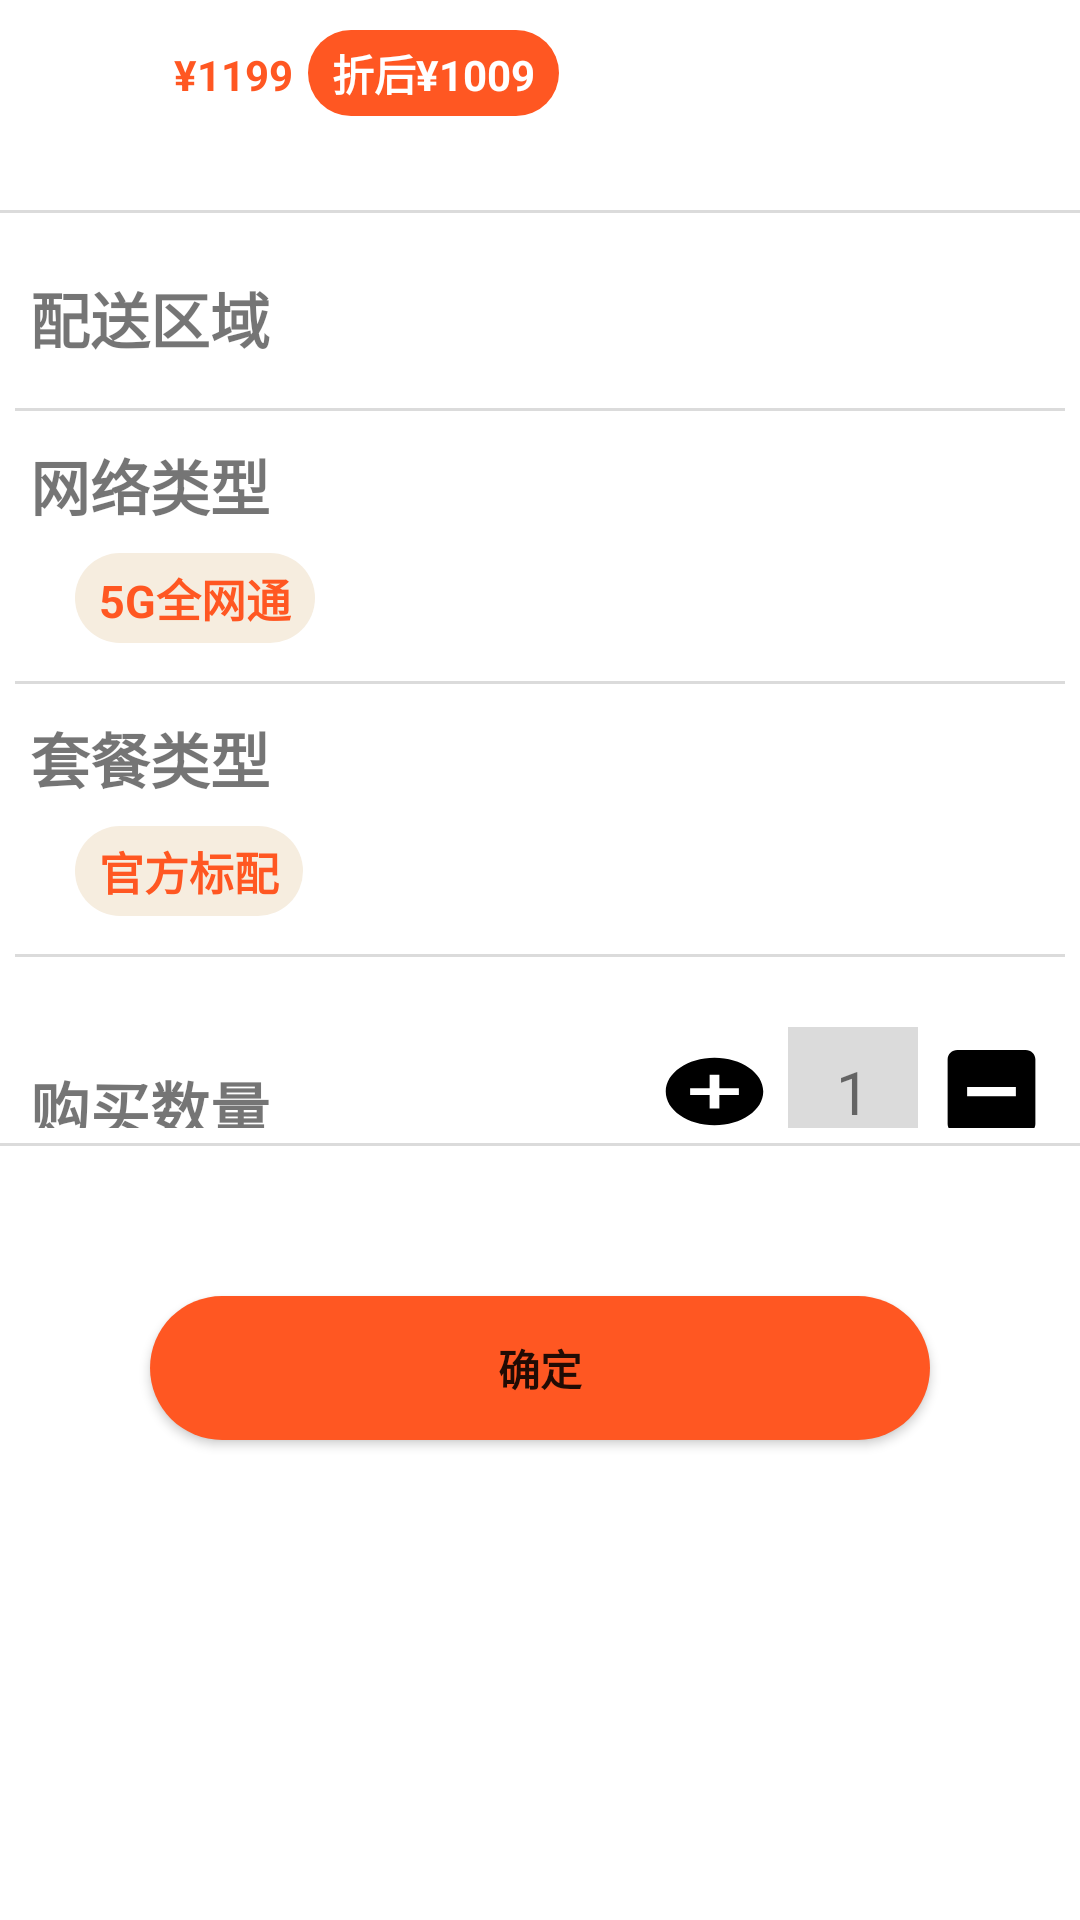

Icon click points for this 1080×1920 phone screenshot, format [x,y]:
commodity add circle: [714,1091]
